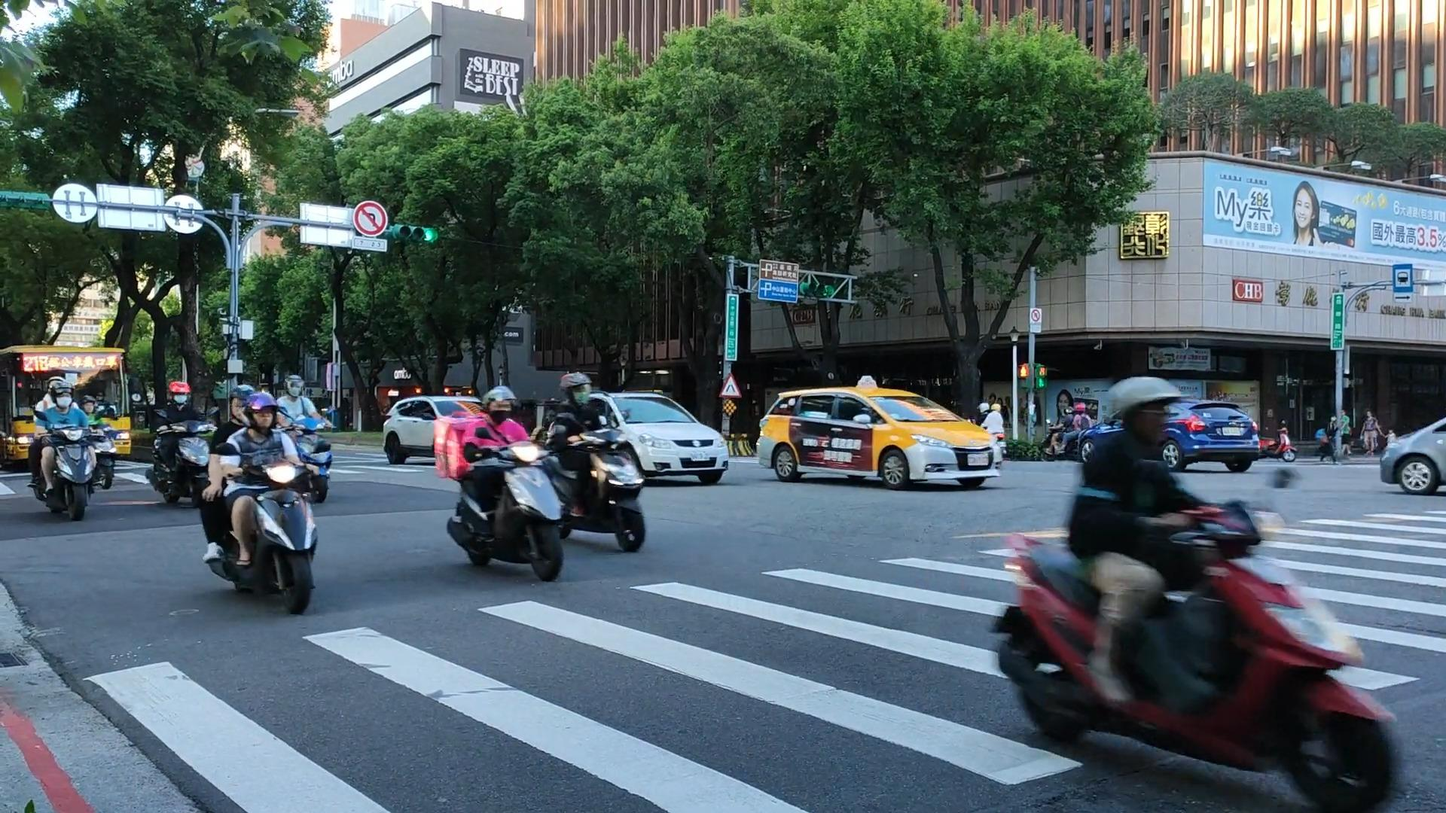driver: (991, 374, 1400, 813), (199, 385, 317, 615), (434, 385, 567, 582), (543, 373, 646, 552), (28, 376, 106, 520), (144, 382, 220, 508), (276, 374, 338, 503)
helmet: (1107, 376, 1185, 446), (240, 392, 279, 429), (482, 385, 518, 424), (560, 373, 593, 409), (51, 382, 75, 410), (168, 381, 191, 405), (284, 374, 305, 398)
